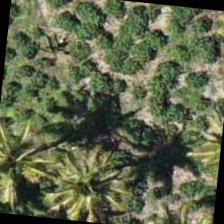Kelapa_Sawit: (38, 135, 138, 223), (0, 117, 61, 214)
